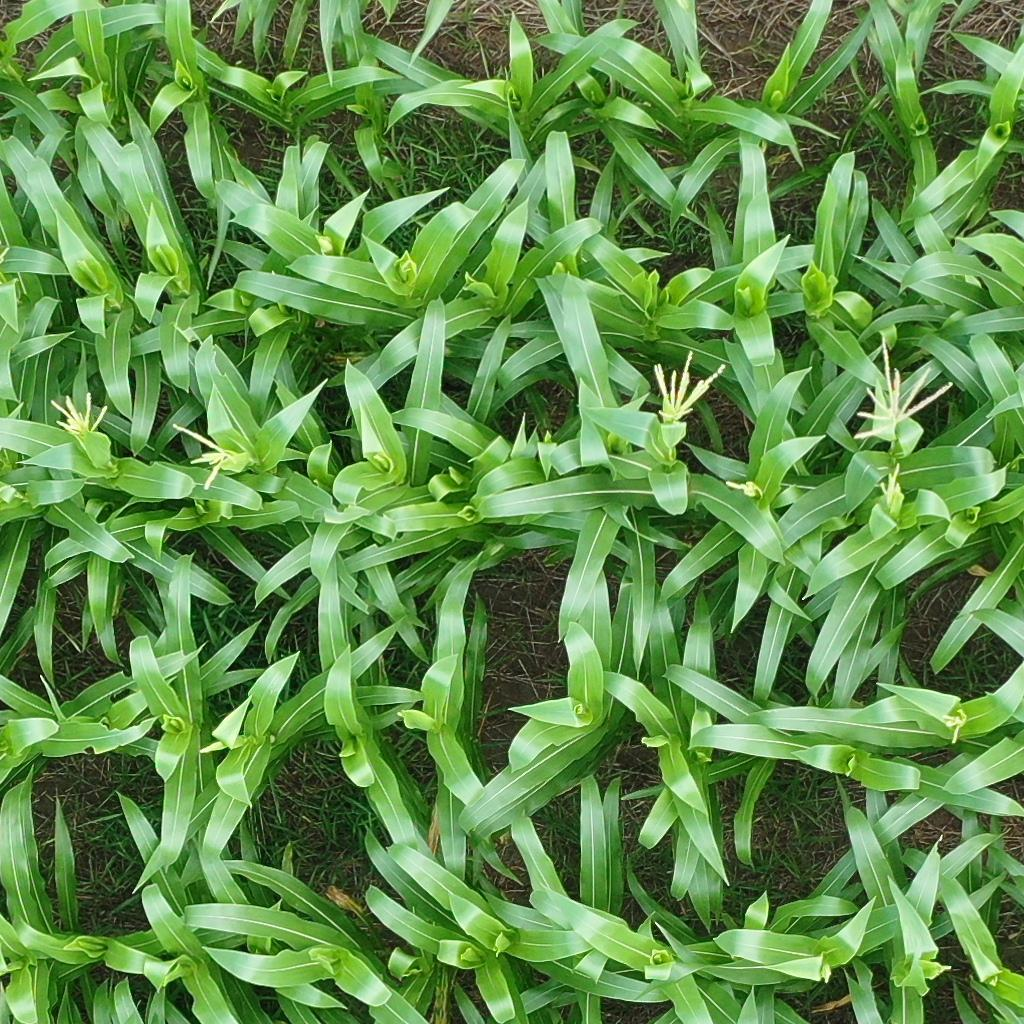Tassel: (851, 328, 957, 445), (646, 345, 728, 419), (166, 420, 244, 493), (46, 391, 109, 442), (718, 472, 773, 501), (877, 461, 906, 511), (943, 706, 967, 747), (397, 253, 417, 281), (816, 958, 832, 983), (317, 235, 336, 254)
